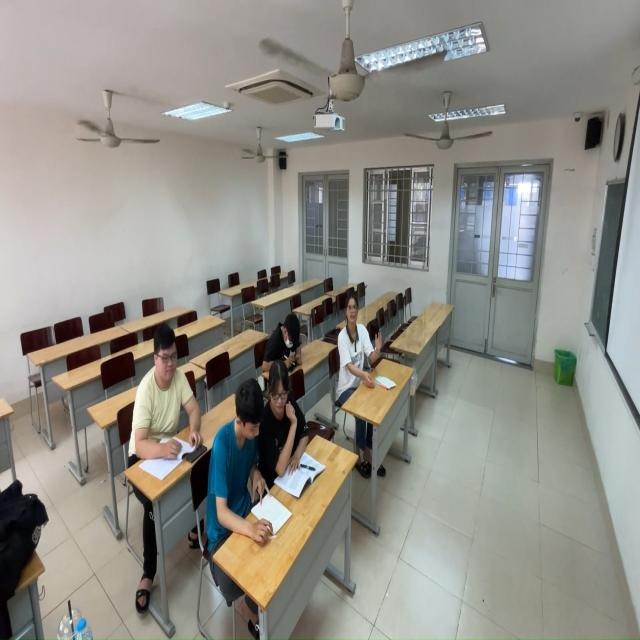raise_hand: (337, 289, 391, 402)
read: (201, 369, 280, 539), (131, 323, 200, 463), (262, 356, 319, 489), (265, 302, 306, 368)
